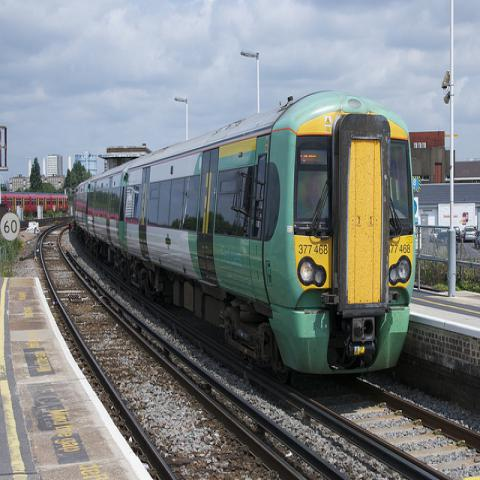car: (436, 231, 459, 253), (463, 226, 476, 240), (429, 228, 442, 242), (454, 226, 461, 242)
